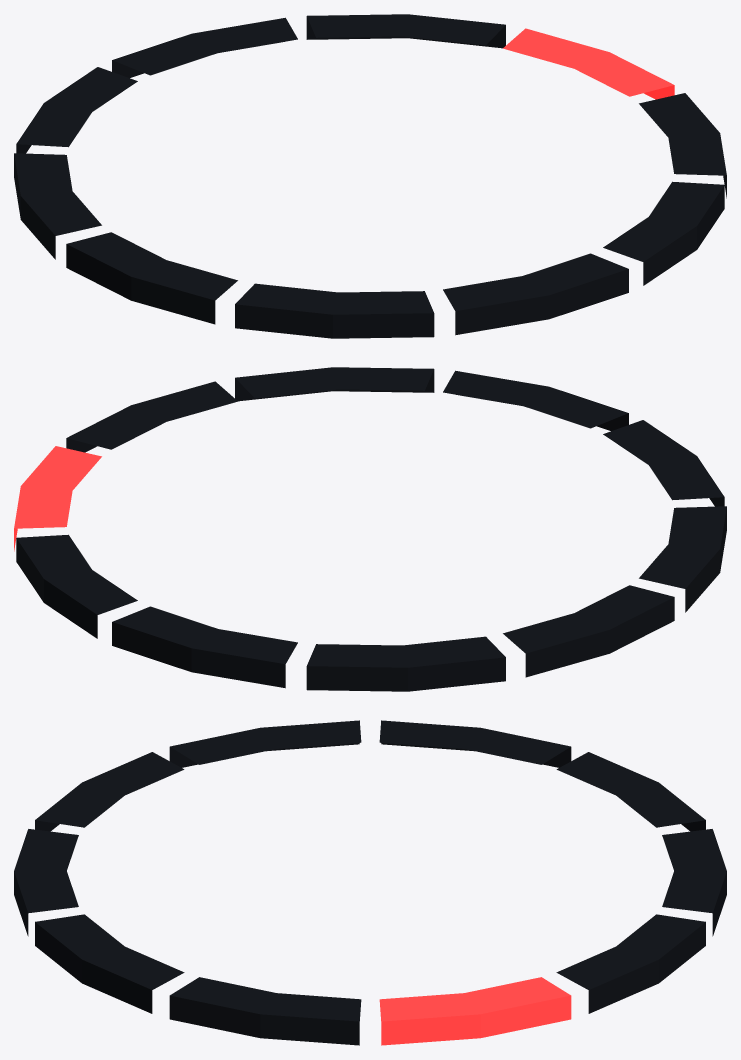
File: hpr_1.glb
3 renders of one model, top to bottom at view 1: azimuth 30°, elevation 25°; view 2: azimuth 150°, elevation 25°; view 3: azimuth 270°, elevation 25°, orthographic.
Parts seen in each view (by area): view 1: hpr_1; view 2: hpr_1; view 3: hpr_1.
Boxes of the visible parts, box(x1,y1,x2,y2) form: hpr_1: box(14, 14, 726, 338); hpr_1: box(14, 367, 726, 691); hpr_1: box(14, 720, 726, 1045).
Bounding box in the file's own units: 2.16 × 0.08 × 2.16.
